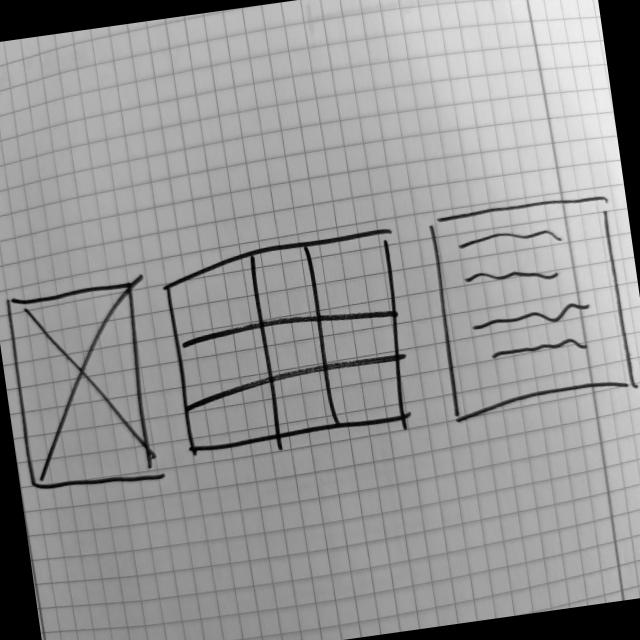image: (4, 277, 164, 498)
table: (158, 225, 425, 461)
textbox: (423, 190, 640, 429)
